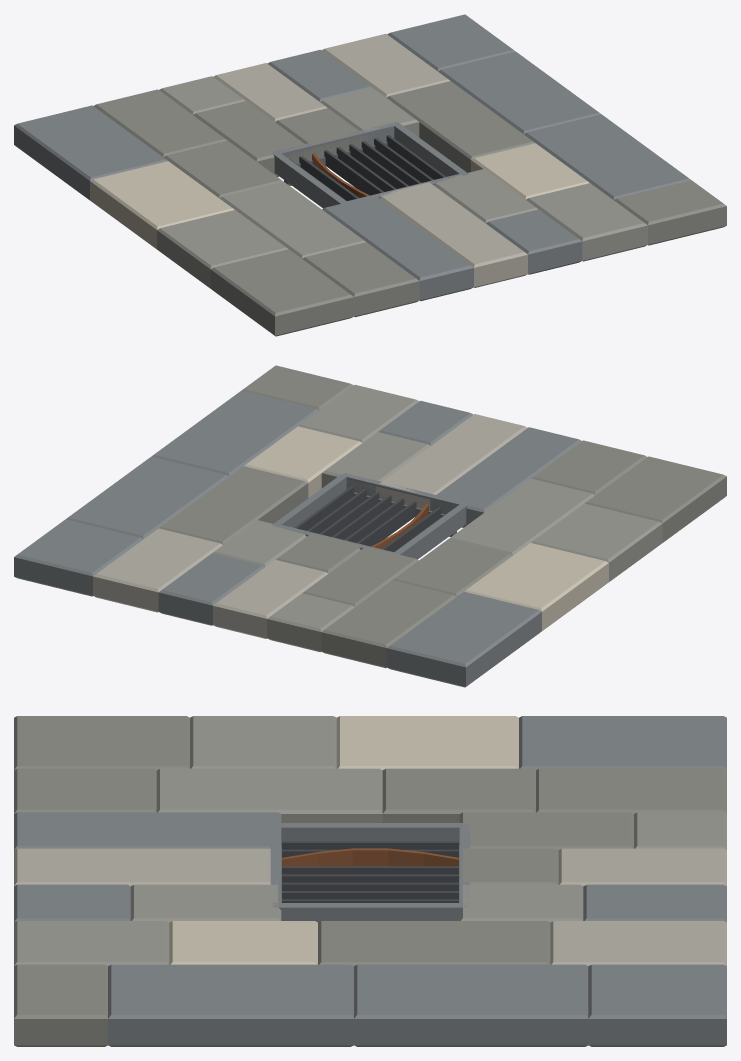
The model's file is SM_LPD_Struct_CeilOpenGrating_01.fbx.
3 renders of one model, top to bottom at view 1: azimuth 30°, elevation 25°; view 2: azimuth 150°, elevation 25°; view 3: azimuth 270°, elevation 25°, orthographic. The views are drawn at different scales.
Parts seen in each view (by area): view 1: SM_LPD_Struct_CeilOpenGrating_01; view 2: SM_LPD_Struct_CeilOpenGrating_01; view 3: SM_LPD_Struct_CeilOpenGrating_01.
Boxes of the visible parts, box(x1,y1,x2,y2) form: SM_LPD_Struct_CeilOpenGrating_01: box(14, 14, 726, 336); SM_LPD_Struct_CeilOpenGrating_01: box(14, 365, 726, 687); SM_LPD_Struct_CeilOpenGrating_01: box(14, 716, 726, 1046).
Size of the model in its own units: 4 by 0.2 by 4.
